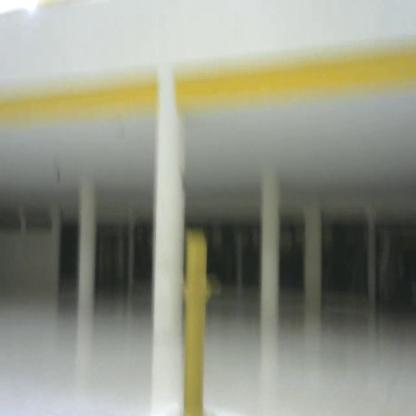pole: (170, 226, 222, 416)
